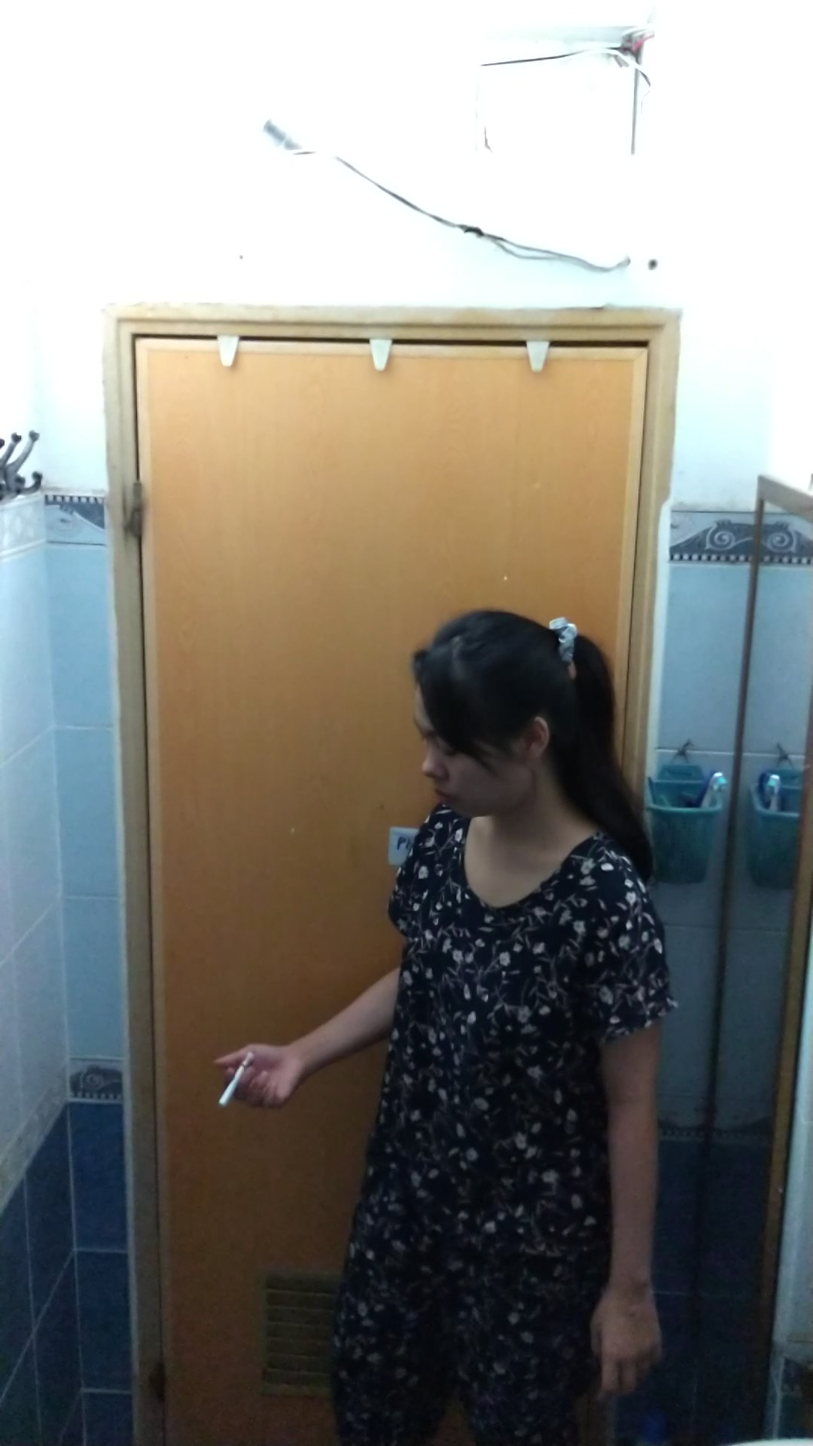cigarette: (215, 1064, 243, 1115)
person: (216, 580, 695, 1445)
